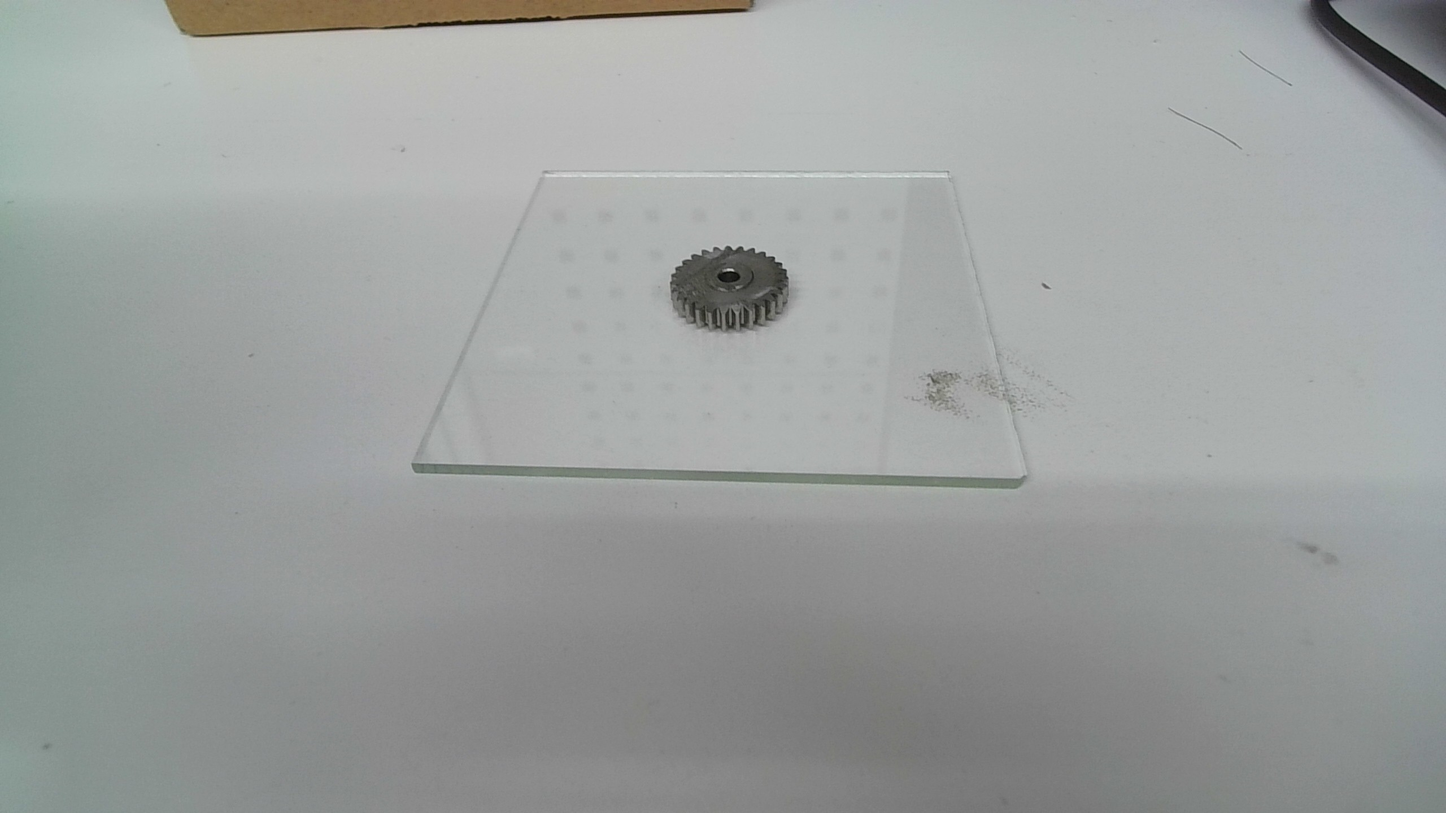gear: (667, 242, 794, 333)
